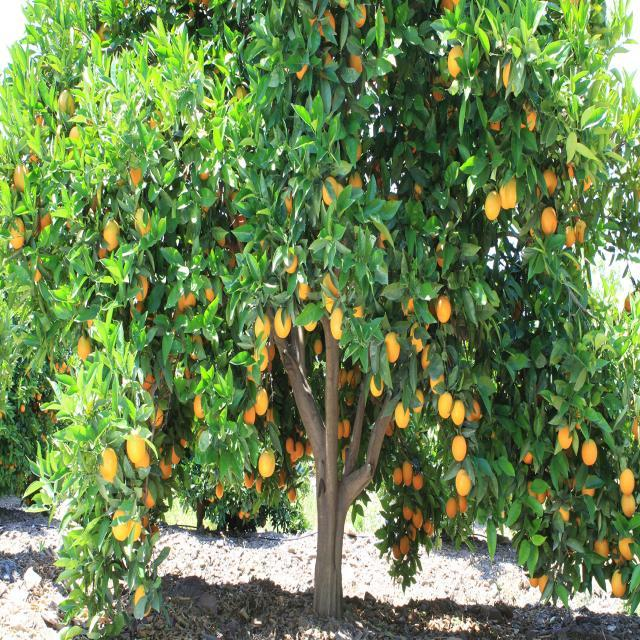Jeruk Sudah Matang: (498, 174, 520, 212), (328, 304, 348, 344), (518, 96, 538, 135), (273, 305, 294, 342), (446, 42, 466, 78), (408, 317, 428, 353), (98, 446, 118, 482), (132, 582, 152, 617), (125, 430, 146, 463), (540, 204, 559, 240), (483, 186, 502, 222), (383, 328, 401, 366), (112, 506, 132, 540), (102, 216, 121, 251), (7, 215, 26, 250), (580, 436, 600, 469), (174, 286, 197, 314), (11, 162, 32, 192), (610, 567, 629, 600), (556, 418, 574, 452), (321, 173, 338, 208), (258, 448, 277, 479), (428, 366, 448, 395), (434, 293, 452, 325), (617, 531, 635, 563), (254, 312, 272, 344), (540, 168, 559, 198), (133, 207, 152, 237), (592, 533, 610, 564), (454, 468, 472, 499), (437, 389, 454, 421), (253, 384, 269, 418), (619, 490, 637, 520), (394, 398, 411, 429), (253, 344, 270, 374), (452, 432, 468, 463), (140, 478, 156, 508), (76, 330, 92, 360), (451, 397, 466, 427), (620, 467, 636, 495), (193, 392, 208, 421), (242, 403, 257, 431), (353, 2, 368, 30), (466, 400, 482, 426), (348, 49, 364, 74), (346, 170, 364, 192), (562, 223, 576, 250), (302, 314, 319, 336), (412, 385, 425, 413), (444, 496, 459, 520), (574, 216, 587, 243), (158, 456, 172, 480), (136, 274, 148, 302), (454, 492, 469, 514), (370, 375, 384, 398), (538, 570, 551, 594), (400, 459, 413, 481), (298, 280, 312, 300), (412, 469, 424, 492), (405, 522, 418, 542), (400, 502, 414, 520), (342, 416, 352, 440), (347, 366, 358, 387), (392, 540, 404, 559), (440, 0, 454, 16), (527, 574, 541, 590), (392, 466, 403, 486), (336, 419, 346, 441), (287, 483, 298, 503), (243, 470, 254, 490), (399, 535, 411, 553), (412, 507, 422, 527), (304, 437, 314, 457), (338, 366, 347, 388), (294, 439, 304, 458), (285, 436, 295, 454), (256, 476, 266, 494), (422, 518, 432, 534), (313, 338, 323, 354), (216, 482, 224, 499), (20, 403, 26, 412), (36, 392, 42, 401)
